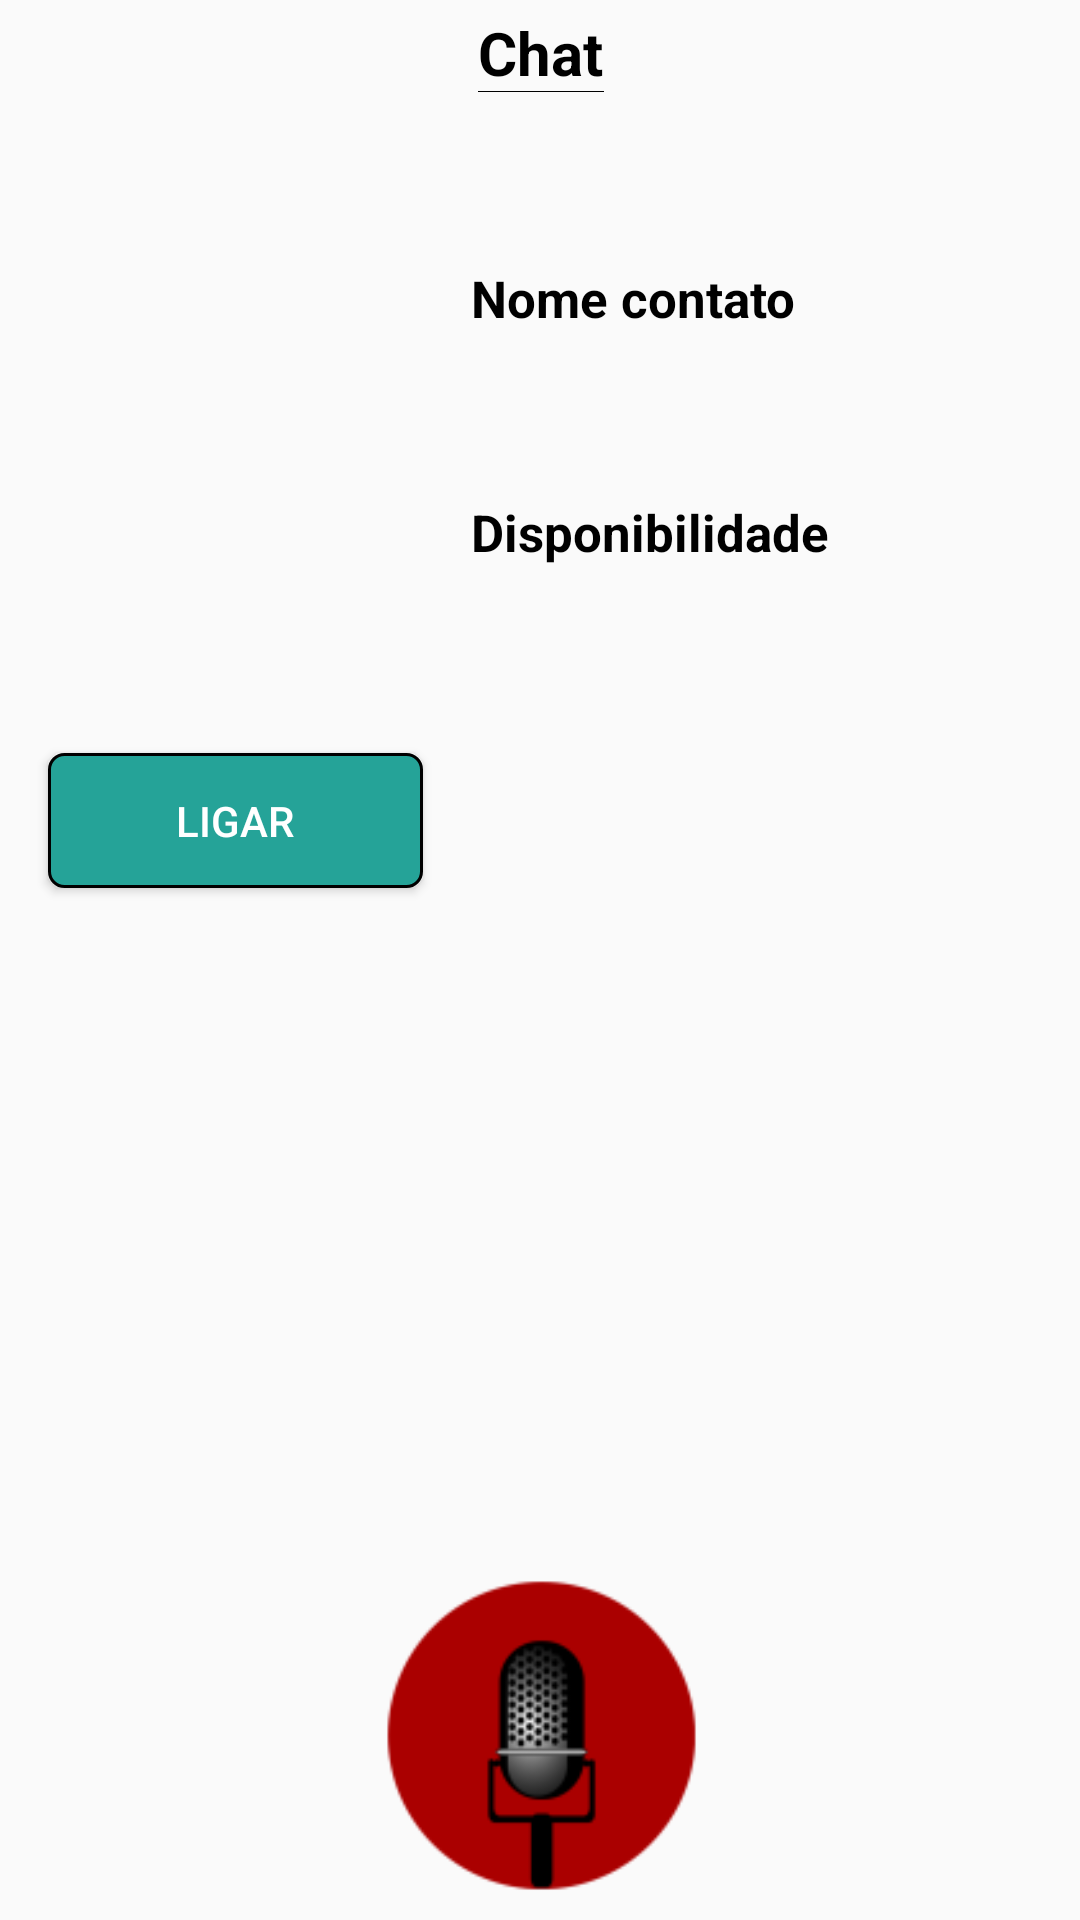

Icons on this 1080 x 1920 Android screen, each with its box as (x1, y1, x2, y2):
audiobutton: (387, 1581, 696, 1890)
